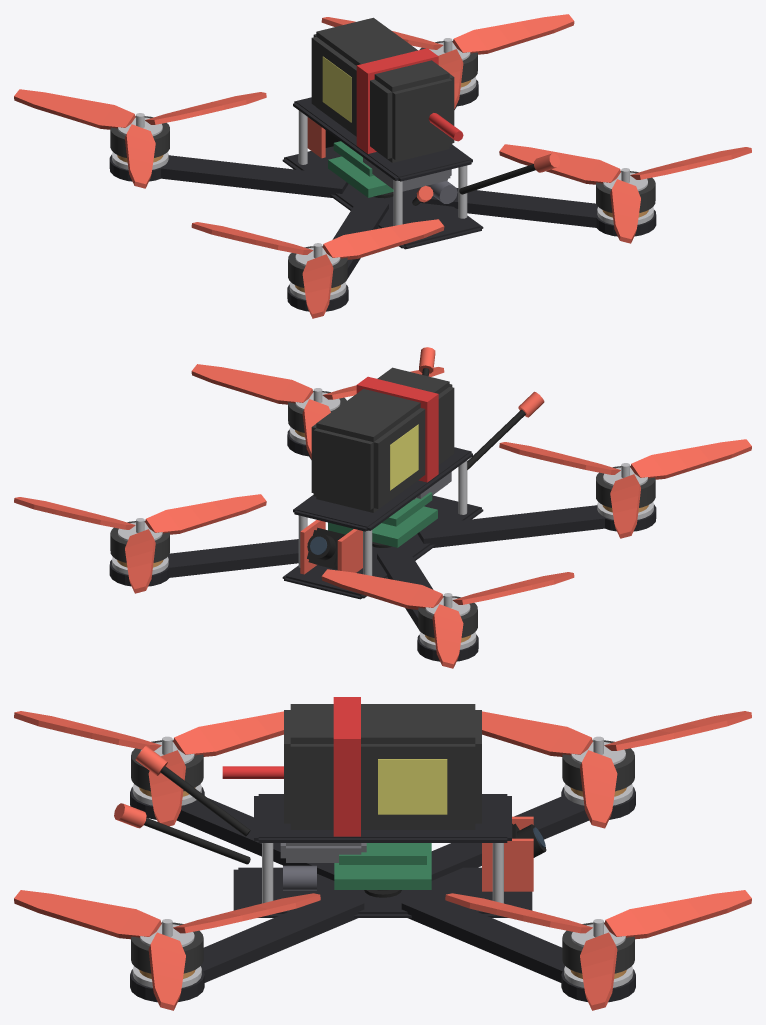
Rendered from freestyle6.glb.
3 renders of one model, top to bottom at view 1: azimuth 30°, elevation 25°; view 2: azimuth 150°, elevation 25°; view 3: azimuth 270°, elevation 25°, orthographic. The views are drawn at different scales.
Visible parts, largest first — view 1: body, prop_FL, prop_RL, prop_RR, prop_FR, cam_mount; view 2: body, prop_FL, prop_RL, prop_FR, prop_RR, cam_mount, fpv_cam; view 3: body, prop_FR, prop_RR, prop_FL, prop_RL, cam_mount, fpv_cam.
Part boxes in pixels (<box>): body: <box>109,17,656,311</box>; prop_FL: <box>14,89,393,198</box>; prop_RL: <box>191,219,444,318</box>; prop_RR: <box>499,144,751,243</box>; prop_FR: <box>321,14,574,108</box>; cam_mount: <box>307,117,325,158</box>; body: <box>109,347,656,661</box>; prop_FL: <box>321,542,574,668</box>; prop_RL: <box>499,439,751,538</box>; prop_FR: <box>14,494,266,593</box>; prop_RR: <box>191,364,444,458</box>; cam_mount: <box>300,520,362,574</box>; fpv_cam: <box>307,527,345,569</box>; body: <box>114,697,635,1002</box>; prop_FR: <box>445,890,751,1010</box>; prop_RR: <box>14,890,320,1010</box>; prop_FL: <box>364,711,751,897</box>; prop_RL: <box>14,711,283,826</box>; cam_mount: <box>482,816,533,891</box>; fpv_cam: <box>512,823,546,857</box>.
Bounding box in the file's own units: 0.307 × 0.091 × 0.3251.
